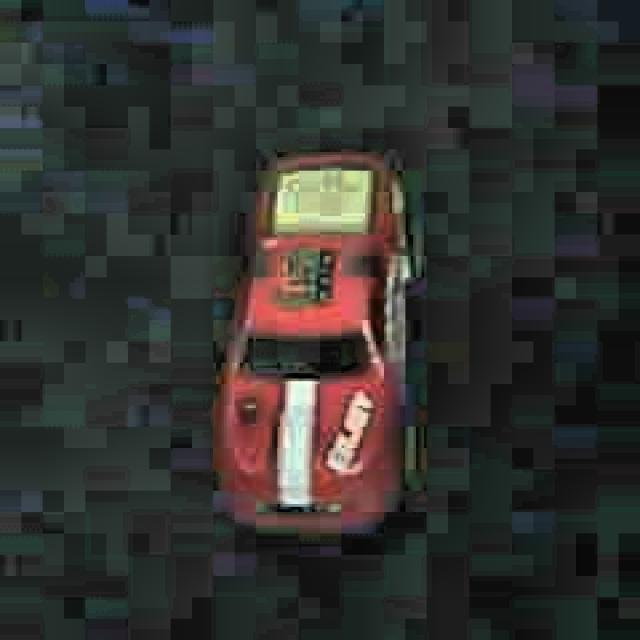car: (210, 144, 422, 539)
